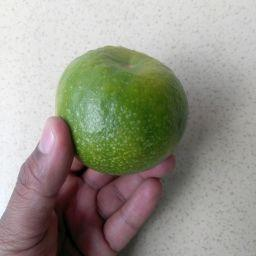Unripe: (56, 44, 187, 175)
